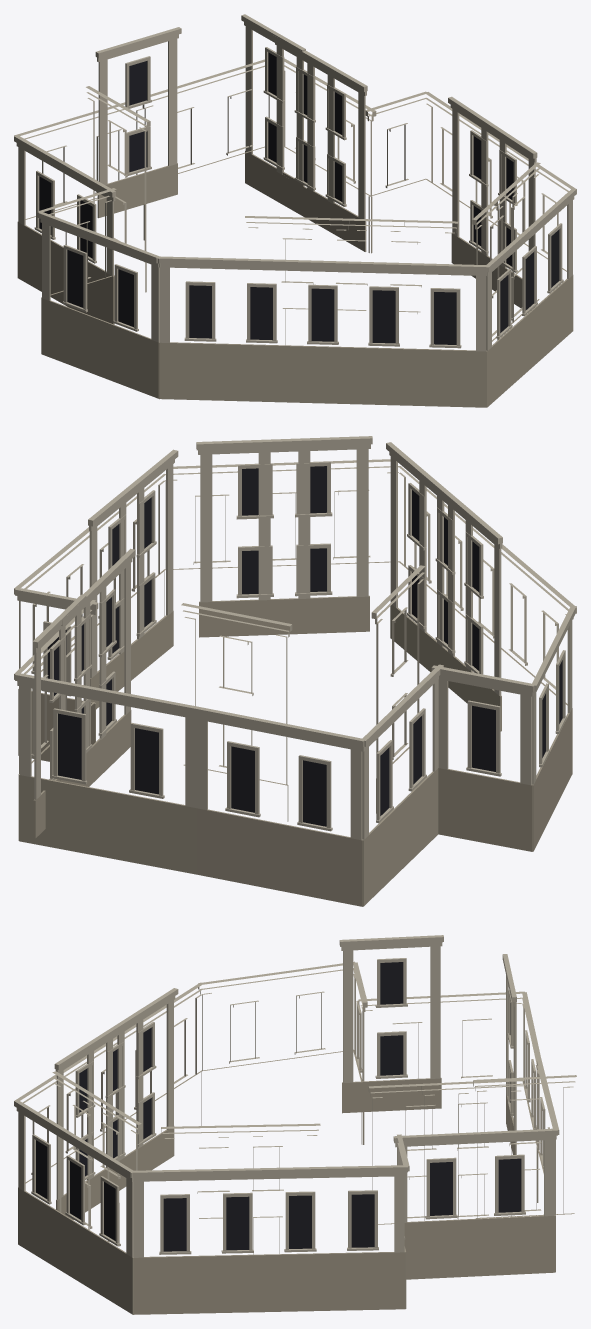
The picture shows the model from 3 angles, top to bottom: view 1: azimuth 30°, elevation 25°; view 2: azimuth 150°, elevation 25°; view 3: azimuth 270°, elevation 25°; orthographic projection. The views are drawn at different scales.
Parts seen in each view (by area): view 1: detail; view 2: detail; view 3: detail.
Boxes of the visible parts, x1,y1,x2,y2 form: detail: [14, 14, 576, 407]; detail: [14, 436, 576, 906]; detail: [14, 935, 576, 1314].
Size of the model in its own units: 27.05 by 12.96 by 30.45.
